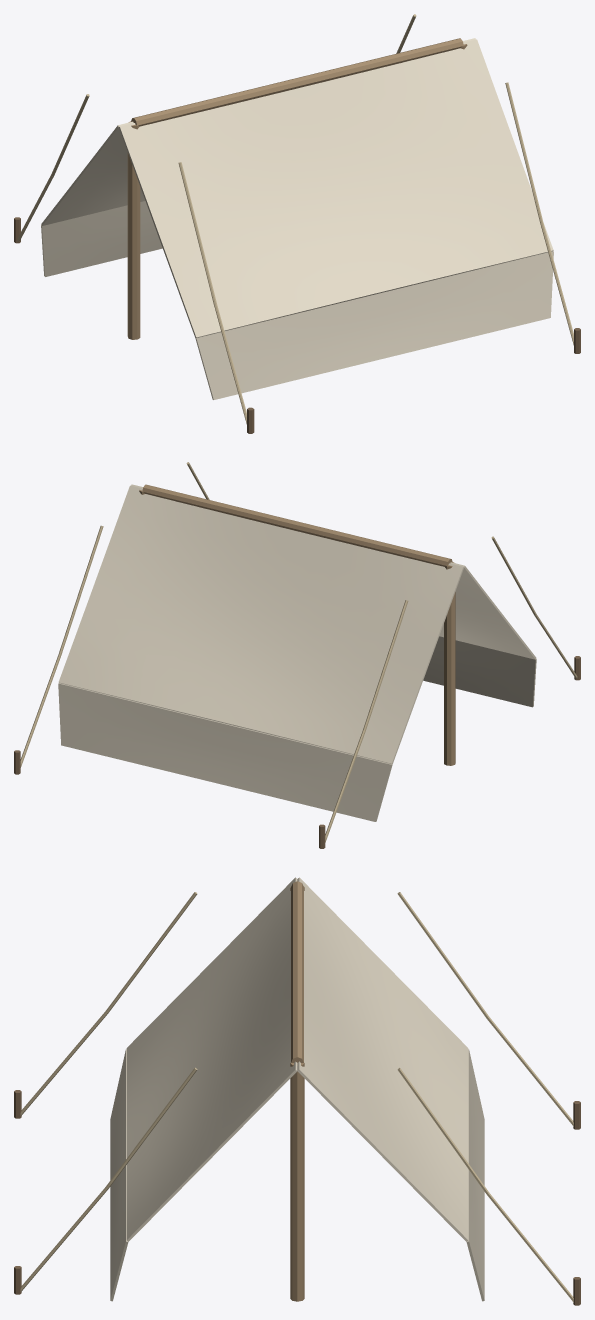
File: tent_a.glb
The picture shows the model from 3 angles, top to bottom: view 1: azimuth 30°, elevation 25°; view 2: azimuth 150°, elevation 25°; view 3: azimuth 270°, elevation 25°; orthographic projection. The views are drawn at different scales.
Parts seen in each view (by area): view 1: tent_a; view 2: tent_a; view 3: tent_a.
Boxes of the visible parts, box(x1,y1,x2,y2) form: tent_a: box(14, 14, 580, 433); tent_a: box(14, 462, 580, 848); tent_a: box(14, 877, 580, 1305).
Bounding box in the file's own units: 3.5 × 2.06 × 4.36.
